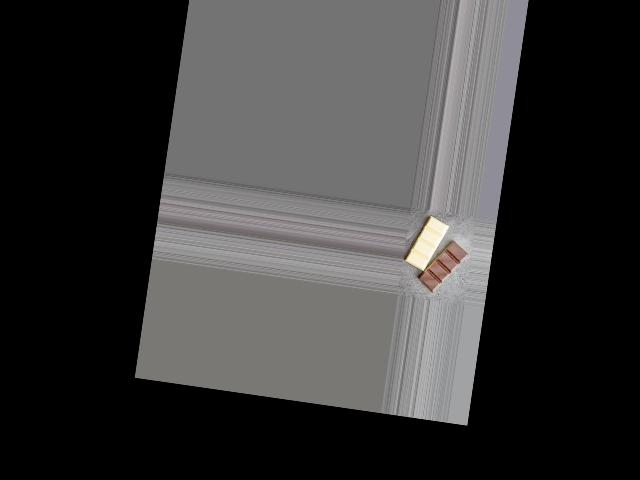chocolate: (402, 210, 472, 295)
